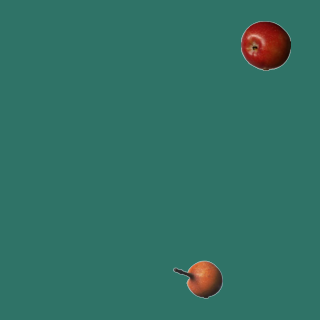Apple Braeburn: (240, 20, 290, 70)
Granadilla: (172, 254, 222, 304)
